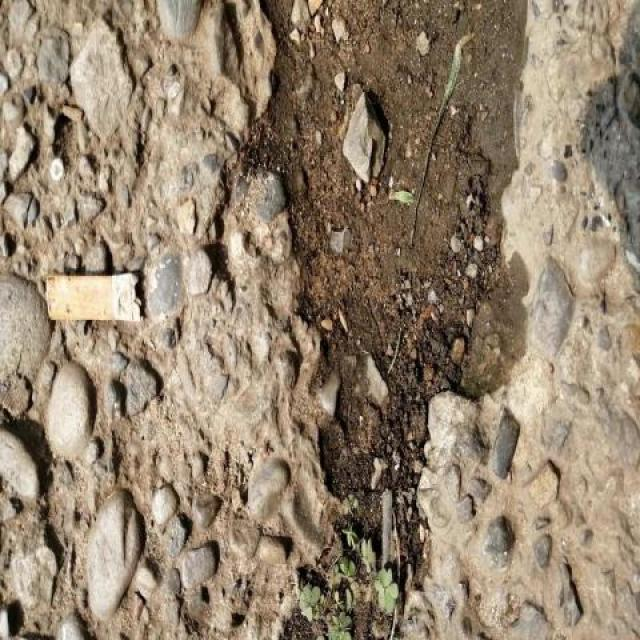non-organic waste: (41, 268, 148, 328)
